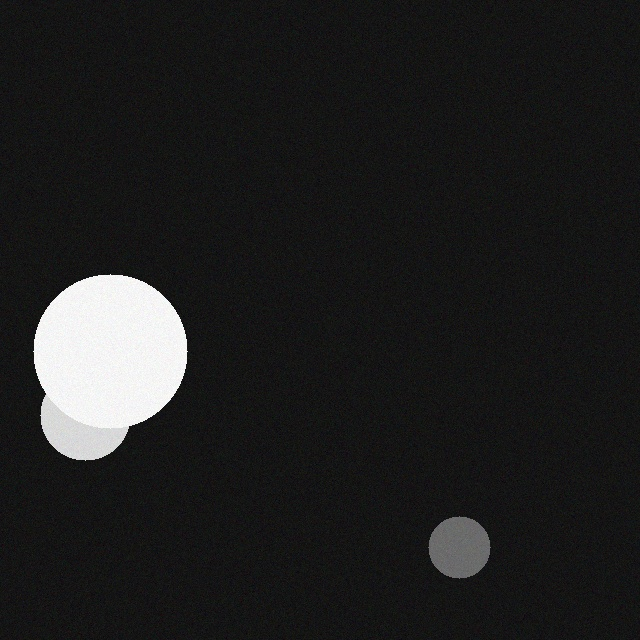circle: (35, 259, 189, 413), (42, 355, 132, 445), (430, 501, 492, 563)
